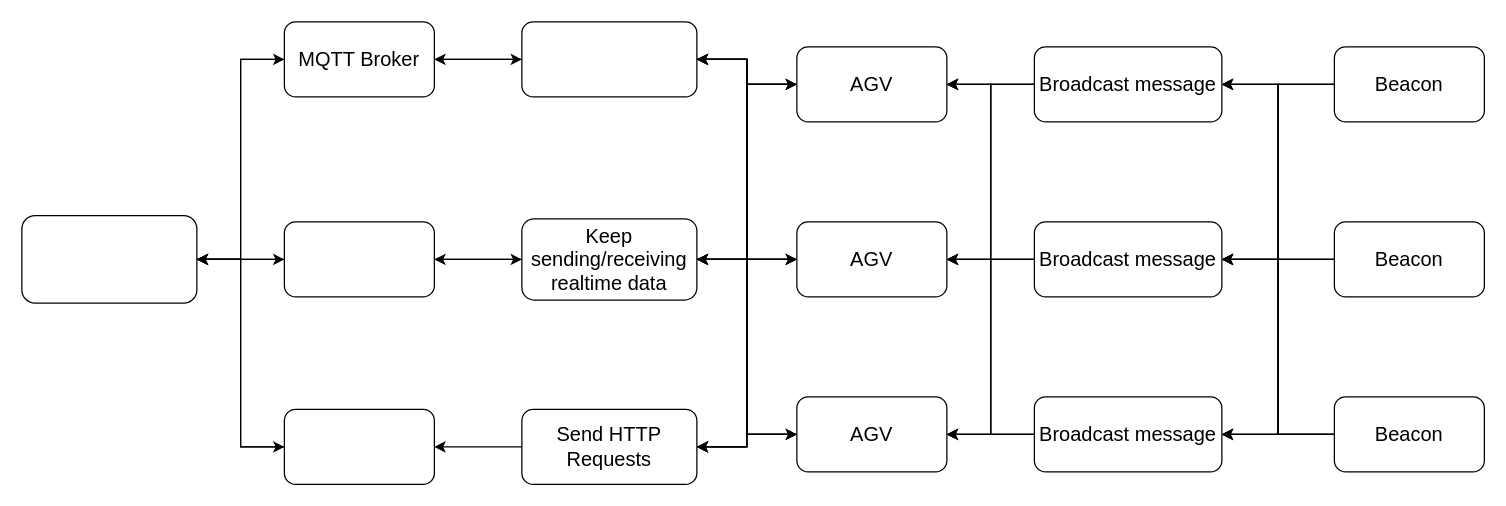
Some shapes in this 1506 by 506 pixel diagram are drawn without their labels. The centre of each missing label's shape, as x and y in pixels:
"API Gateway" belongs at point (358, 446).
"Dashboard" belongs at point (109, 258).
"Publish/Subscribe to/from topics" belongs at point (609, 59).
"Socker Server" belongs at point (358, 259).
